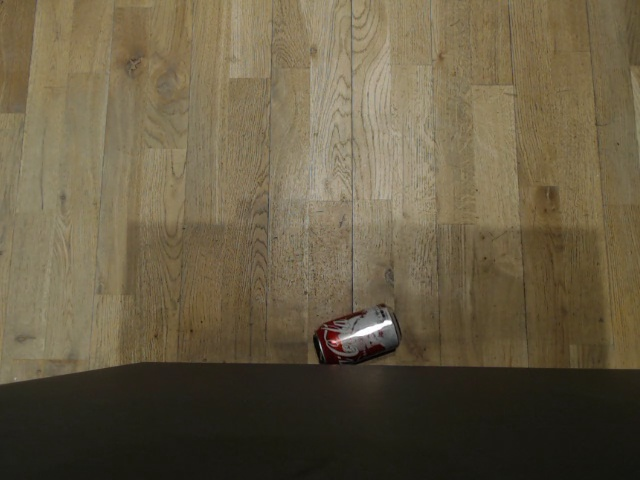cola: (311, 301, 403, 366)
